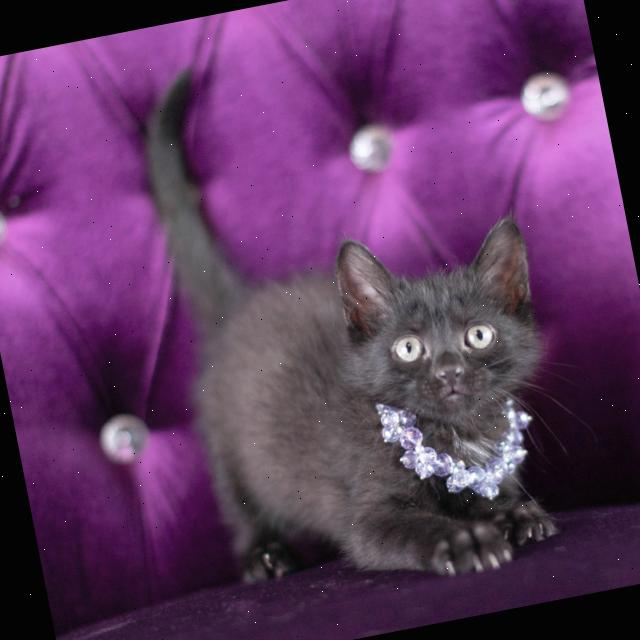bombay_cat: (316, 203, 566, 449)
